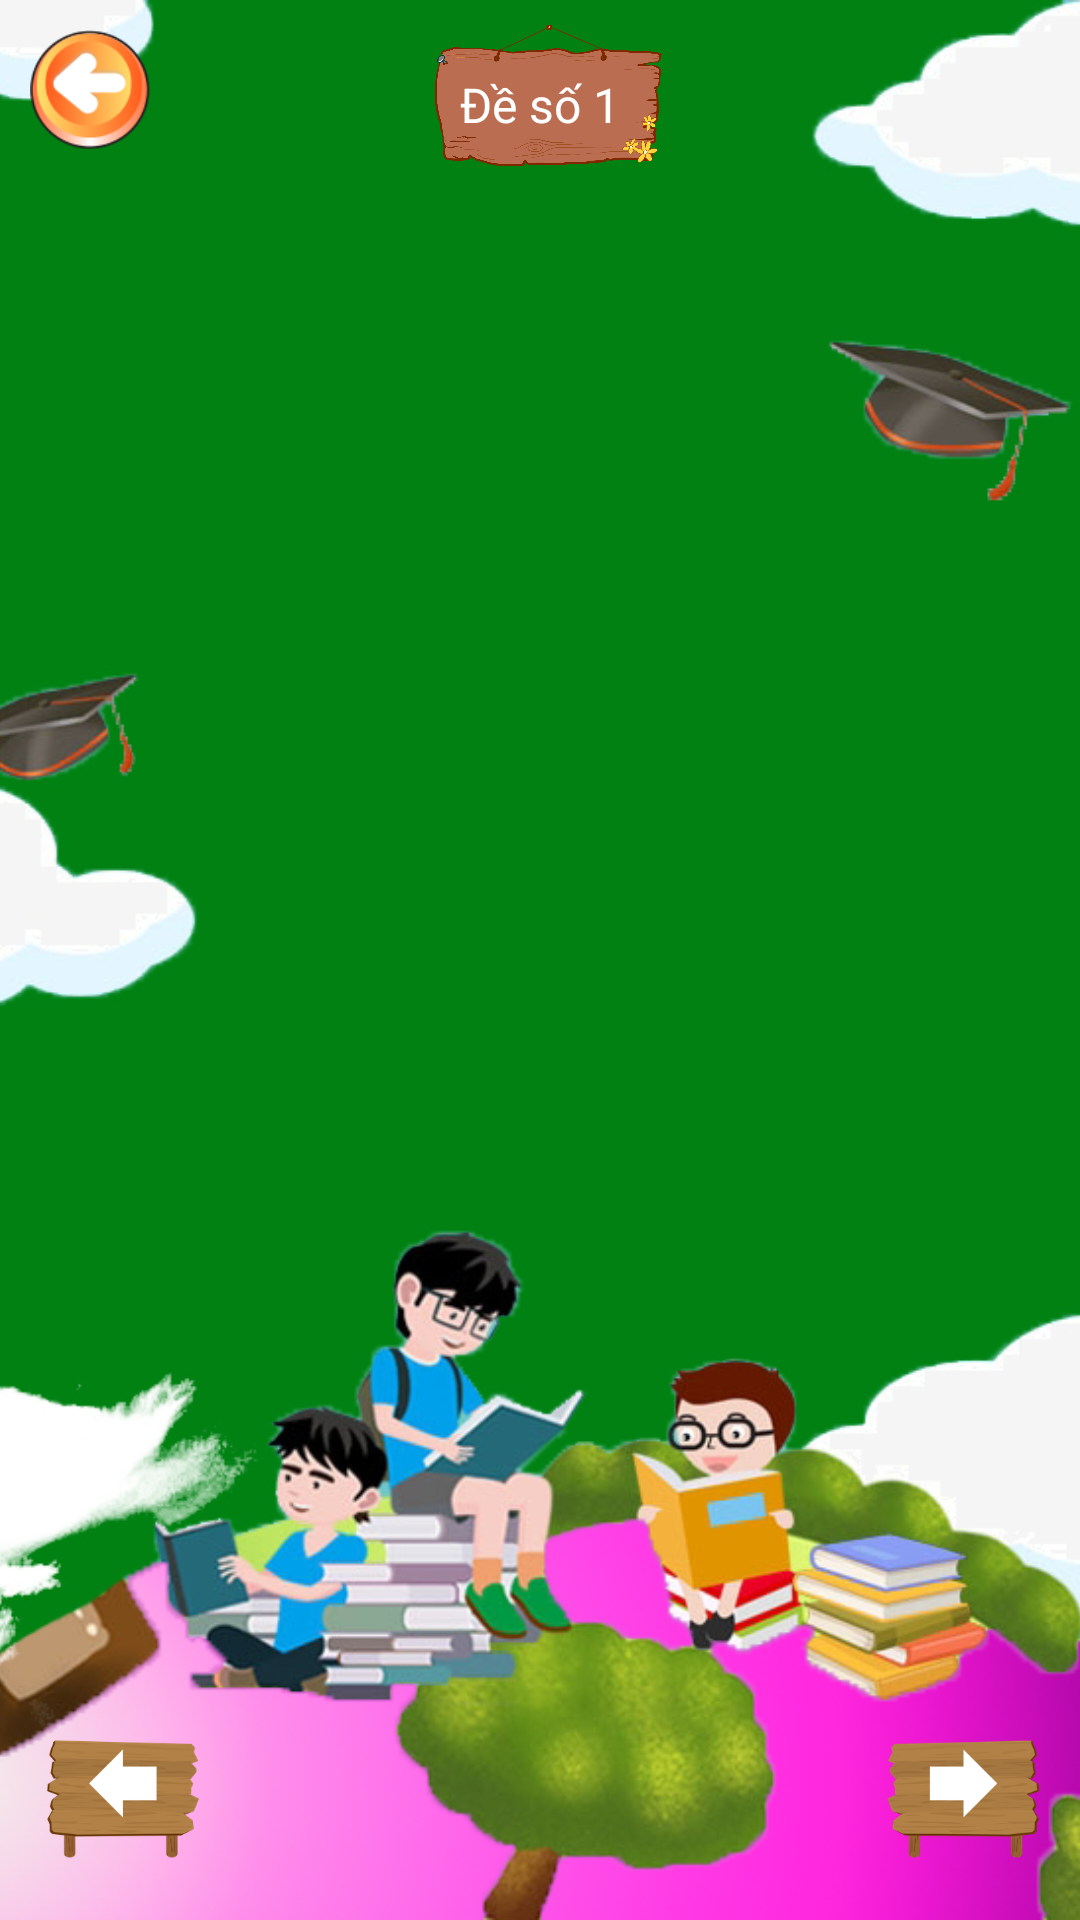

Named icons in this screenshot (1080 x 1920) and their centers, point (x, y):
back: point (77, 74)
next cauhoi: point (960, 1800)
pre cauhoi: point (120, 1800)
